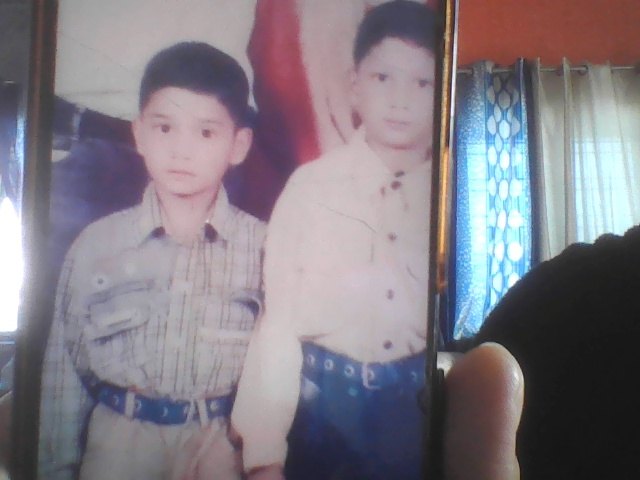fake: (315, 0, 460, 205), (135, 52, 245, 208)
